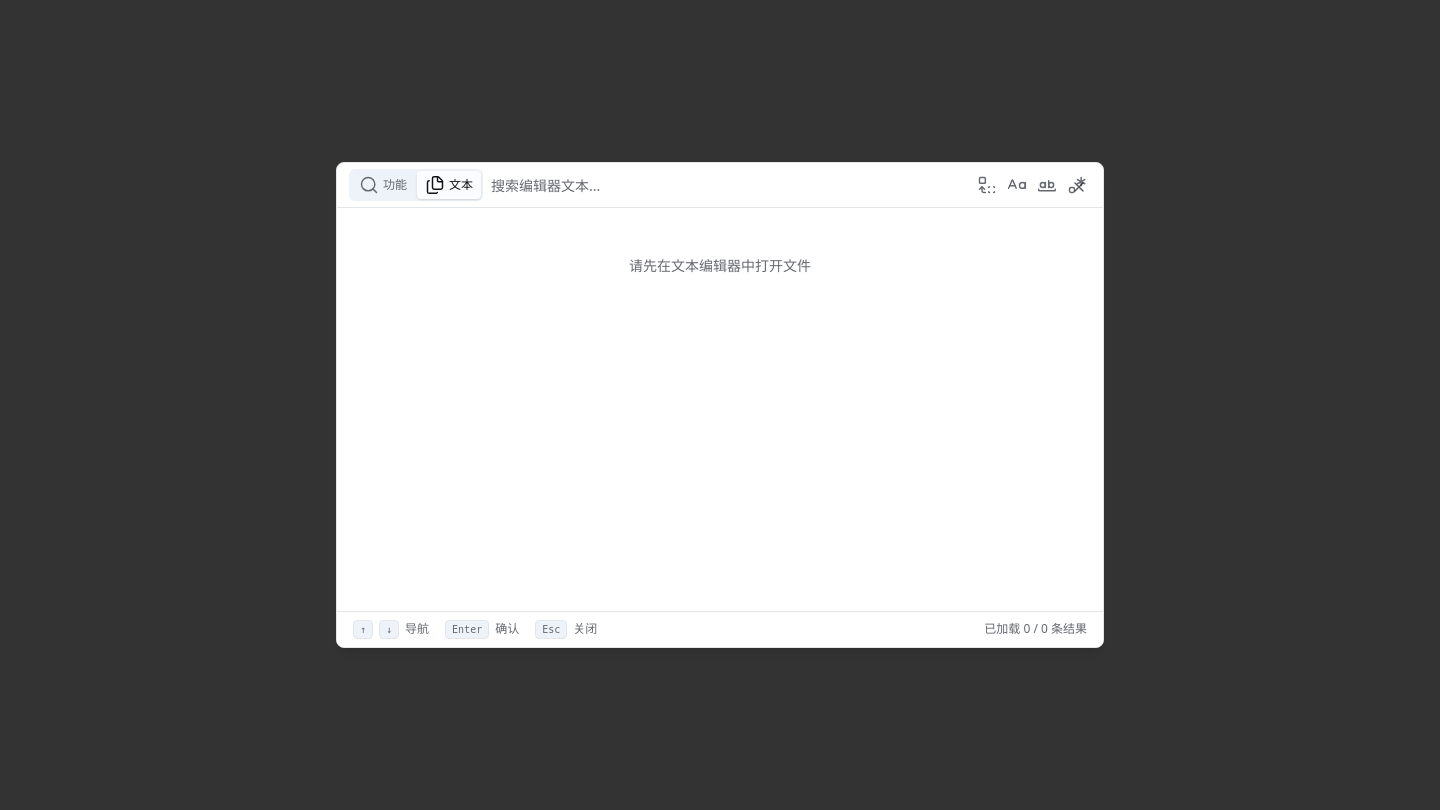
Test: SearchDialog 文本模式 › 默认进入文本模式,切换「功能」后 placeholder 变化
Expected: the dropdown with placeholder "搜索编辑器文本..." is shown, [491,163,965,207]
Click the button "功能". click: point(383, 185)
box: [351,171,415,199]
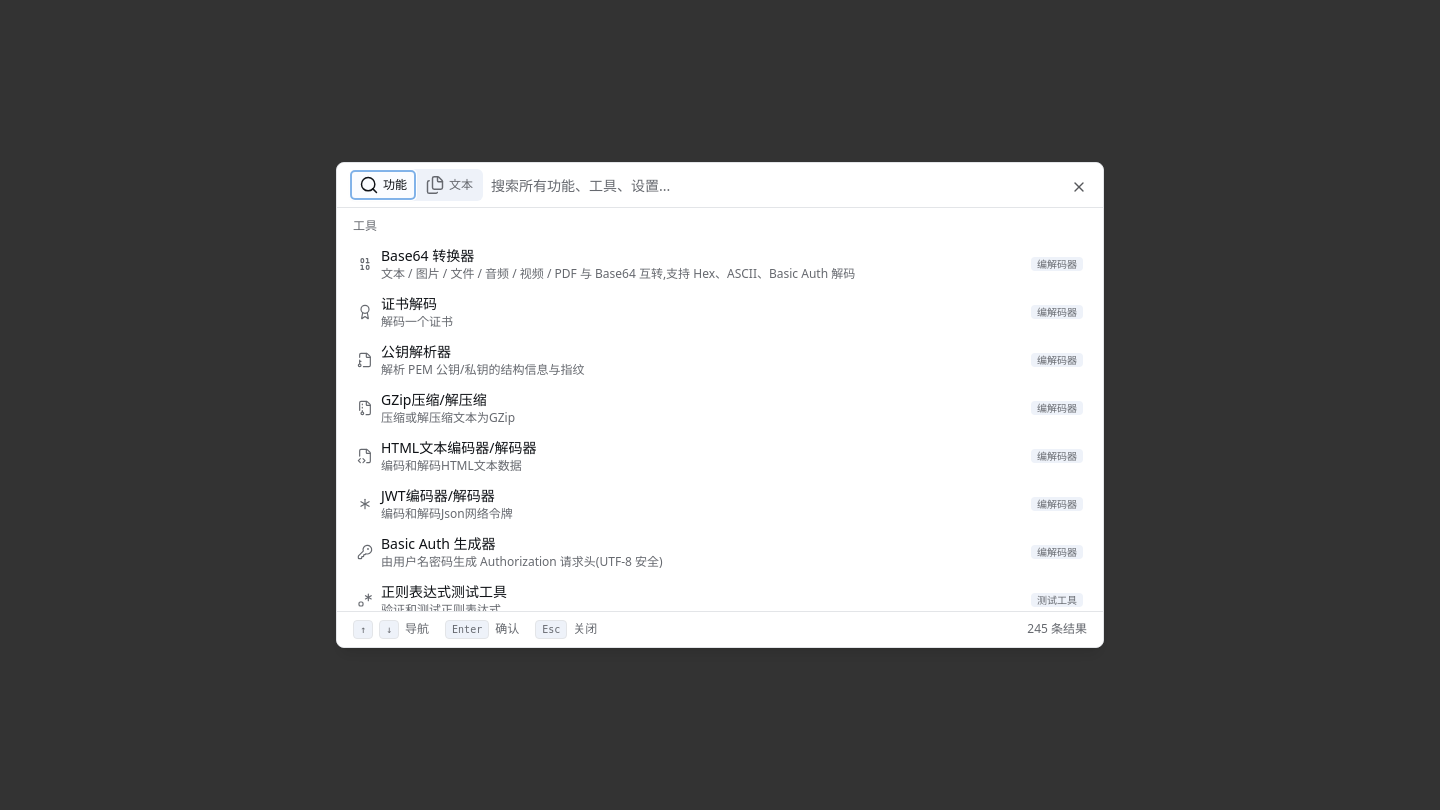
Now the dropdown with placeholder "搜索所有功能、工具、设置..." is shown, box [491,163,1091,207]
